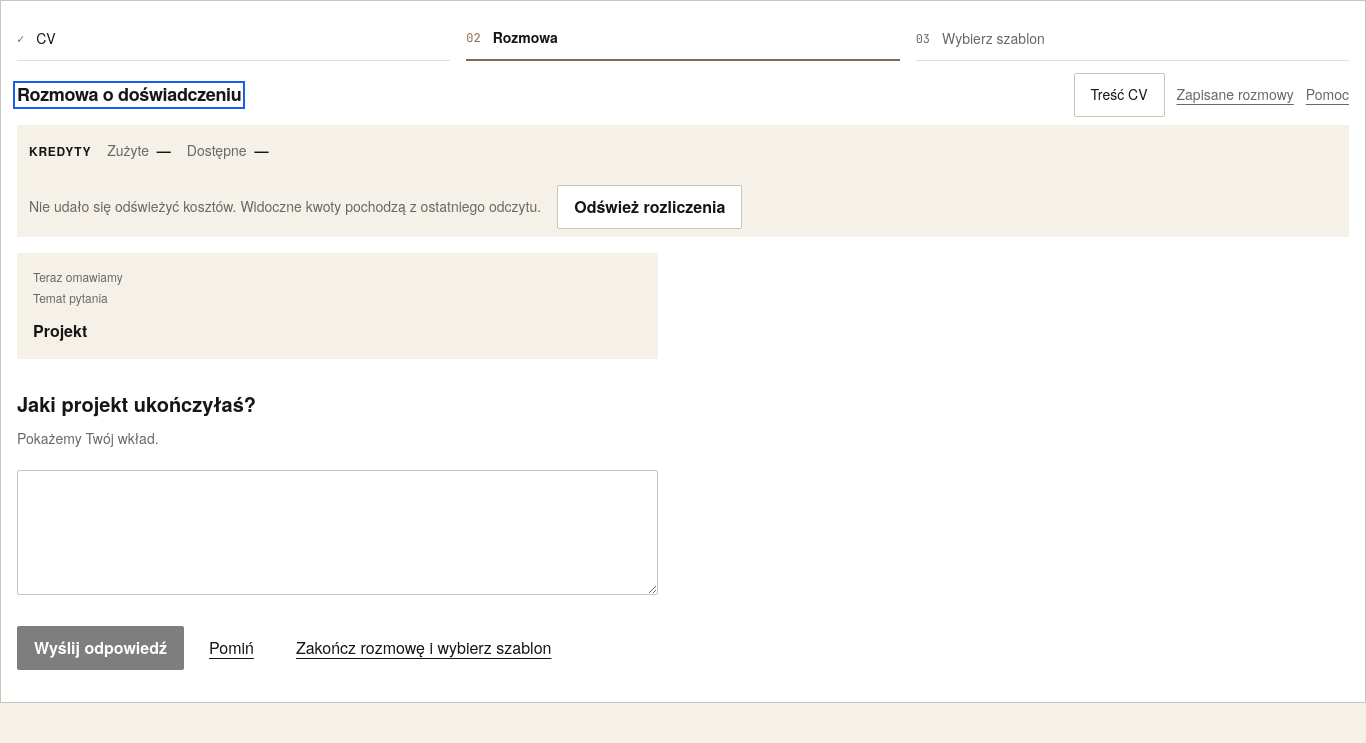
Scenario: interview workflow › retains typed input when saving fails
In the text box named "Twoja odpowiedź": (337, 533) x1=17 y1=470 x2=658 y2=595, type "Moja odpowiedź"
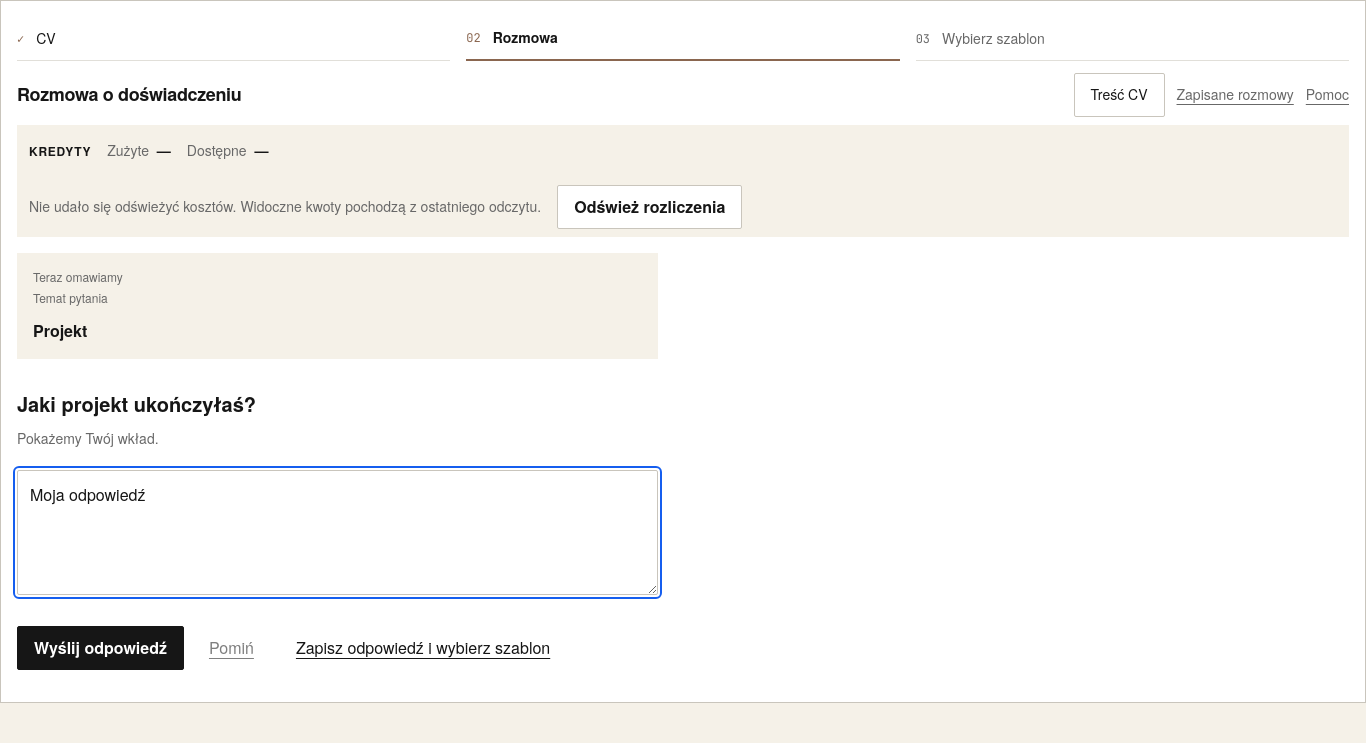
Click the button "Wyślij odpowiedź": (100, 648) x1=17 y1=626 x2=184 y2=670
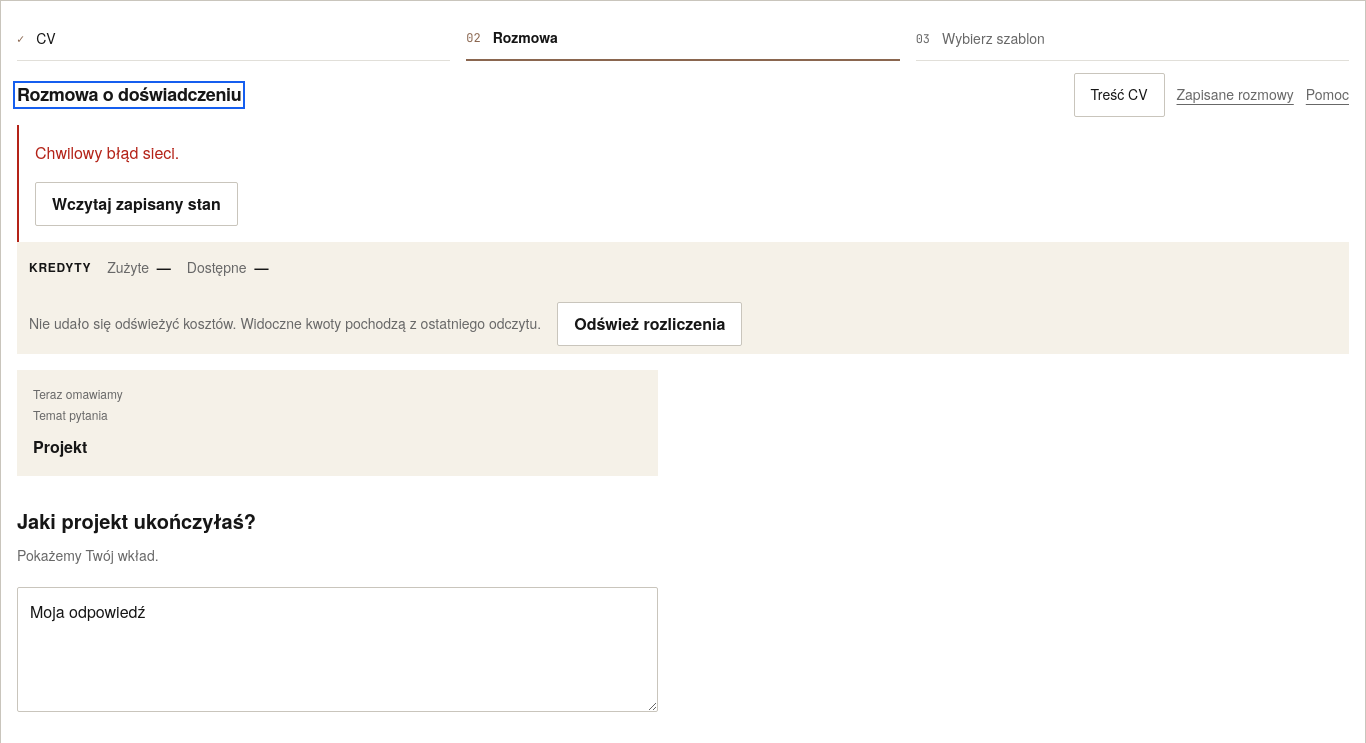
Now the message "Chwilowy błąd sieci. Wczytaj zapisany stan" is shown, box x1=17 y1=125 x2=1349 y2=242
